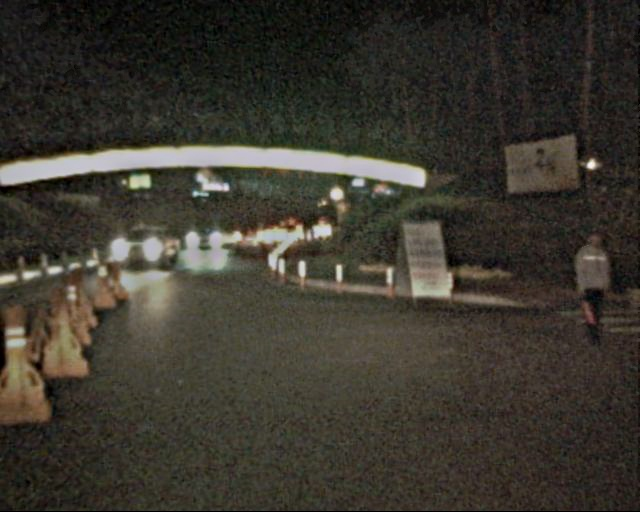person: (563, 232, 617, 344)
